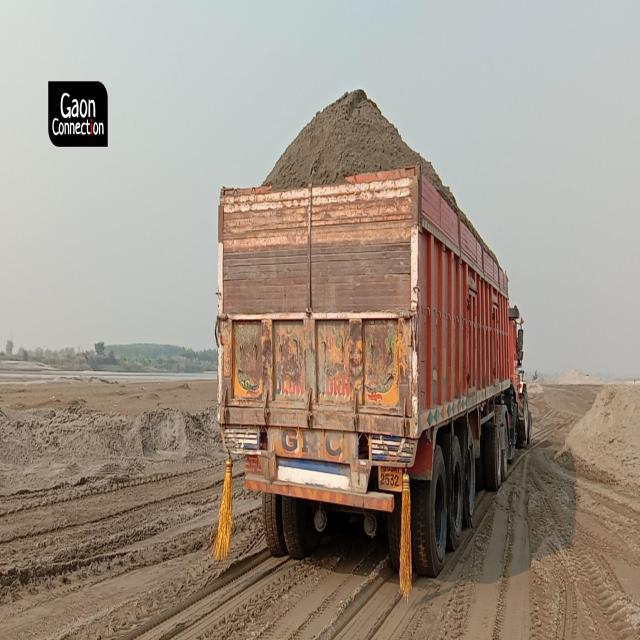truck: (216, 167, 531, 577)
